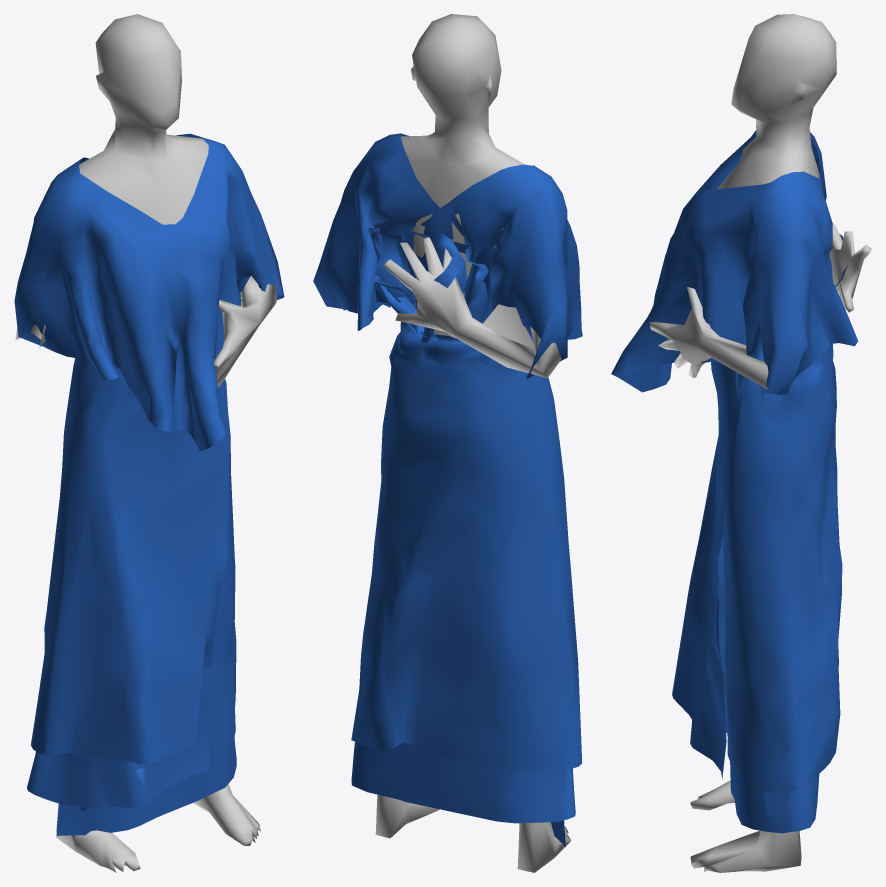
File: personaA3.obj
3 views of the same model, side by side, from view 1: azimuth 30°, elevation 25°; view 2: azimuth 150°, elevation 25°; view 3: azimuth 270°, elevation 25° (orthographic). The views are drawn at different scales.
Parts seen in each view (by area): view 1: TrajeTipico, Maniqui; view 2: TrajeTipico, Maniqui; view 3: TrajeTipico, Maniqui.
Part boxes in pixels (box(x1,y1,x2,y2)): TrajeTipico: box(14, 133, 284, 835); Maniqui: box(15, 14, 276, 872); TrajeTipico: box(313, 133, 582, 846); Maniqui: box(375, 14, 570, 872); TrajeTipico: box(611, 130, 857, 833); Maniqui: box(649, 14, 871, 872).
Bounding box in the file's own units: 59.06 × 183 × 52.69.
